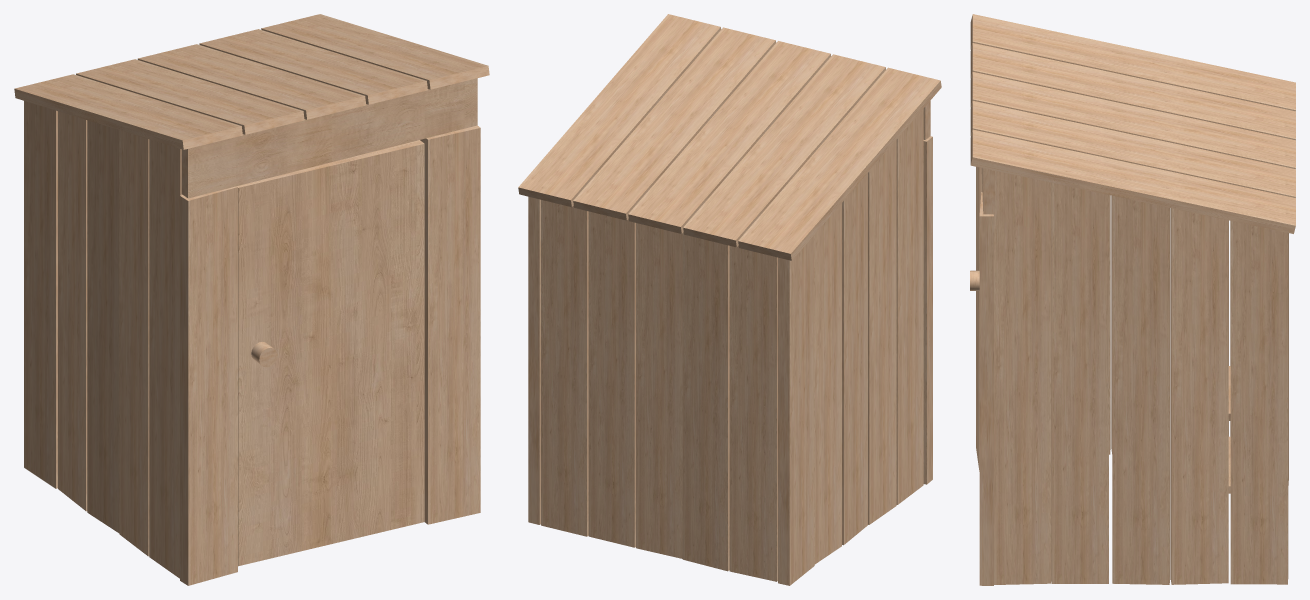
The model's file is restroom.FBX.
The picture shows the model from 3 angles, left to right: view 1: azimuth 30°, elevation 25°; view 2: azimuth 150°, elevation 25°; view 3: azimuth 270°, elevation 25°; orthographic projection. The views are drawn at different scales.
Visible parts, largest first — view 1: Box001, Box005, Box002, Box004, Box003, Box007, Box006, Box009, Box008, Box027, Box028, Box029 (+2 smaller); view 2: Box017, Box026, Box023, Box025, Box024, Box027, Box009, Box031, Box028, Box029, Box030, Box006 (+5 smaller); view 3: Box018, Box019, Box021, Box020, Box022, Box031, Box027, Box030, Box029, Box028, Box002, Box005 (+3 smaller).
Boxes of the visible parts, x1,y1,x2,y2 form: Box001: [237, 140, 424, 566]; Box005: [180, 186, 237, 585]; Box002: [421, 125, 480, 524]; Box004: [181, 78, 477, 198]; Box003: [149, 139, 182, 578]; Box007: [87, 120, 119, 532]; Box006: [119, 130, 149, 556]; Box009: [24, 101, 57, 488]; Box008: [58, 111, 87, 511]; Box027: [14, 74, 242, 149]; Box028: [76, 59, 304, 134]; Box029: [137, 44, 366, 119]; Box017: [729, 246, 777, 581]; Box026: [541, 200, 588, 536]; Box023: [682, 232, 729, 571]; Box025: [588, 211, 635, 547]; Box024: [636, 223, 682, 558]; Box027: [738, 67, 941, 260]; Box009: [778, 235, 814, 585]; Box031: [518, 14, 721, 207]; Box028: [683, 54, 885, 247]; Box029: [628, 41, 830, 233]; Box030: [573, 27, 776, 220]; Box006: [868, 140, 896, 524]; Box018: [994, 171, 1051, 584]; Box019: [1051, 183, 1108, 583]; Box021: [1112, 195, 1170, 584]; Box020: [1170, 208, 1228, 584]; Box022: [1230, 221, 1288, 584]; Box031: [970, 129, 1295, 233]; Box027: [970, 14, 1295, 111]; Box030: [970, 101, 1295, 197]; Box029: [970, 72, 1295, 168]; Box028: [970, 43, 1295, 140]; Box002: [979, 192, 993, 585]; Box005: [976, 167, 982, 471].
Bounding box in the file's own units: 66.6 × 93.34 × 64.02.
Materials: 1 (1 with a texture image).
